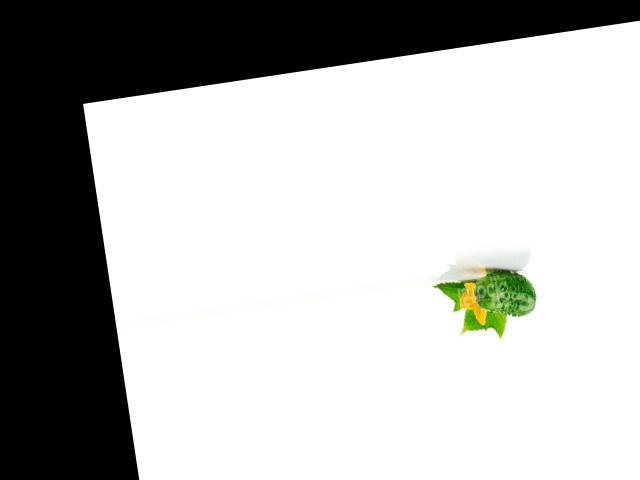cucumber: (473, 266, 539, 322)
